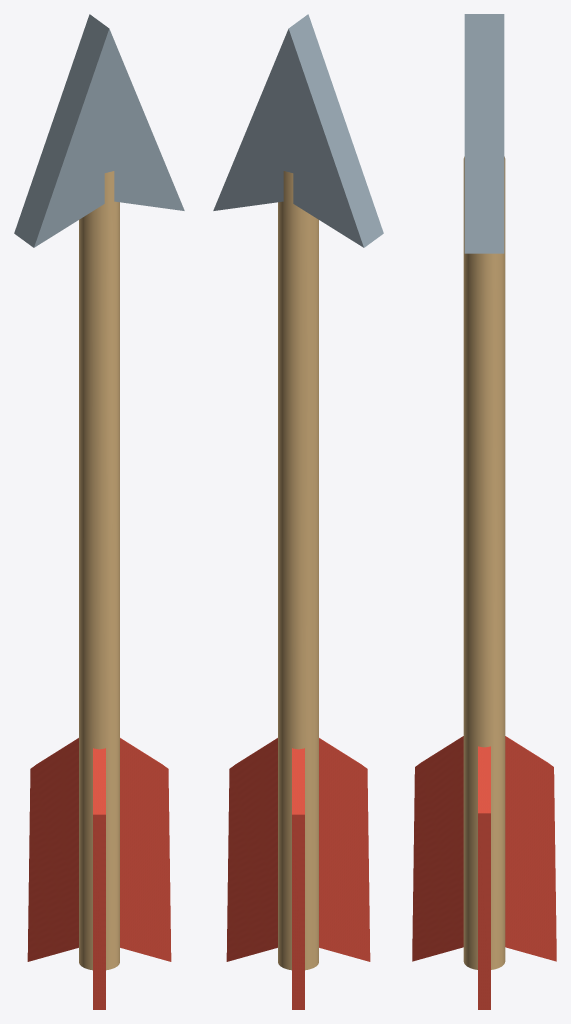
File: ARROW.glb
3 renders of one model, left to right at view 1: azimuth 30°, elevation 25°; view 2: azimuth 150°, elevation 25°; view 3: azimuth 270°, elevation 25°, orthographic.
Parts seen in each view (by area): view 1: ARROW; view 2: ARROW; view 3: ARROW.
Boxes of the visible parts, box(x1,y1,x2,y2) form: ARROW: box(14, 14, 184, 1009); ARROW: box(213, 14, 383, 1009); ARROW: box(412, 14, 556, 1009).
Size of the model in its own units: 0.11 by 0.665 by 0.0906.
Materials: 3 (2 with a texture image).
